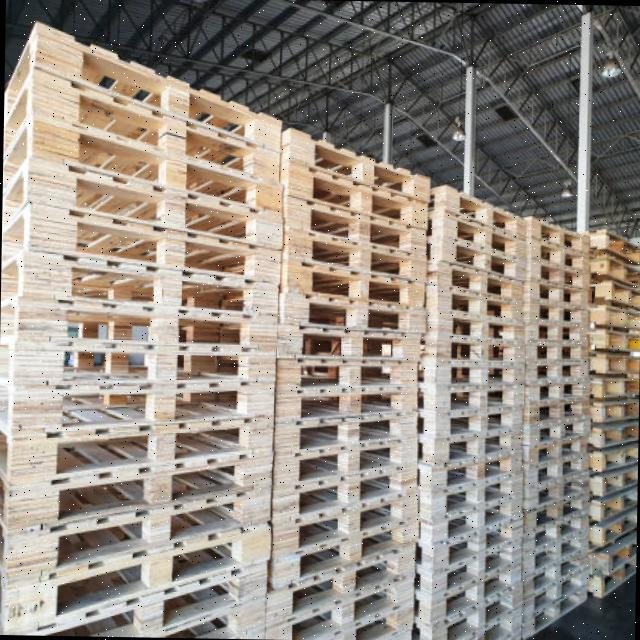Wooden-Pallets: (29, 13, 287, 168), (19, 408, 271, 487), (20, 241, 279, 317), (286, 119, 435, 213), (19, 328, 264, 385), (282, 294, 432, 341), (441, 180, 525, 242)
